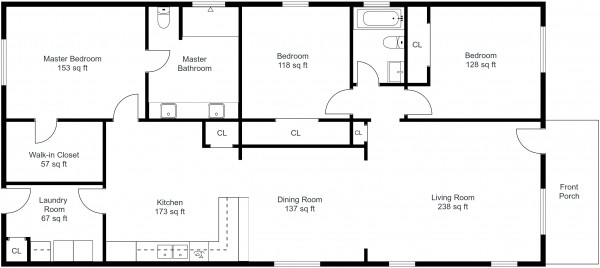door: (491, 124, 536, 158), (73, 186, 100, 213), (410, 89, 433, 120), (9, 185, 32, 214), (31, 123, 57, 146), (322, 93, 348, 116), (356, 57, 382, 80), (150, 46, 176, 69), (115, 92, 141, 115)
room: (100, 117, 548, 268), (399, 1, 546, 125), (2, 1, 149, 124), (238, 1, 354, 124), (143, 1, 242, 124), (1, 180, 108, 268), (1, 115, 108, 190), (347, 1, 409, 89)
window: (272, 251, 323, 267), (538, 25, 552, 74), (488, 255, 521, 268), (190, 1, 226, 12), (383, 258, 421, 268), (279, 1, 312, 12), (361, 1, 391, 12)
